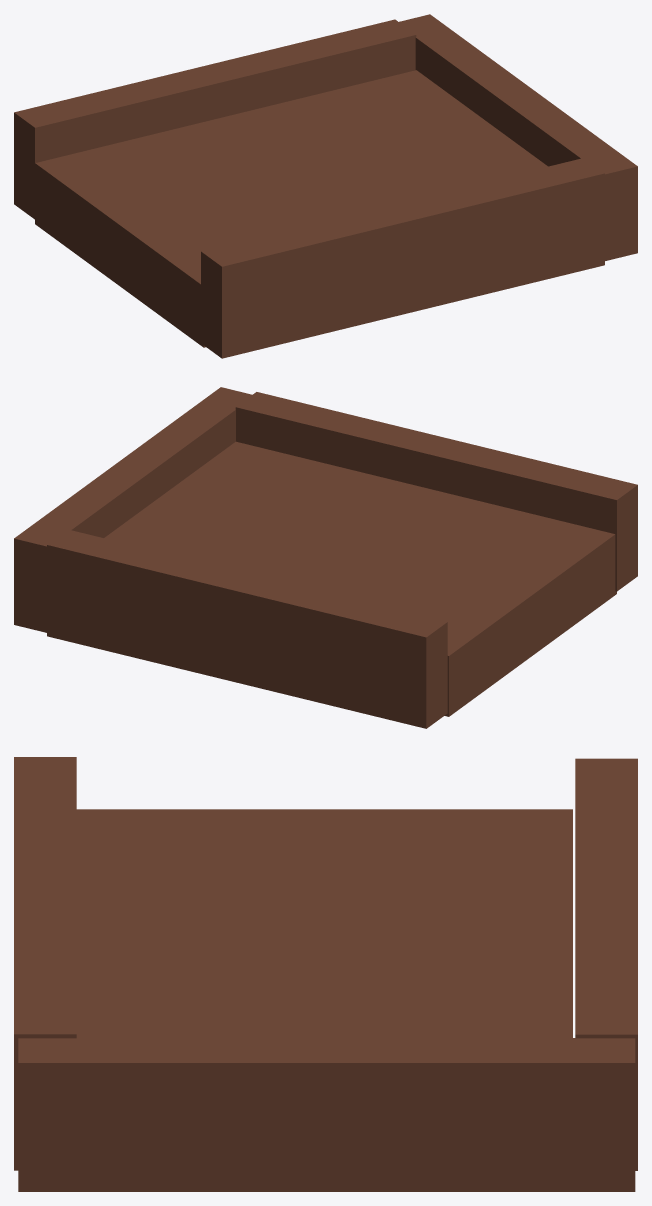
Rendered from Start.fbx.
3 renders of one model, top to bottom at view 1: azimuth 30°, elevation 25°; view 2: azimuth 150°, elevation 25°; view 3: azimuth 270°, elevation 25°, orthographic. The views are drawn at different scales.
Visible parts, largest first — view 1: Cube.012, Cube.014, Cube.013, Cube.015; view 2: Cube.012, Cube.013, Cube.014, Cube.015; view 3: Cube.012, Cube.015, Cube.014, Cube.013.
Part boxes in pixels (box(x1,y1,x2,y2)): Cube.012: box(35, 70, 547, 347); Cube.014: box(201, 158, 604, 358); Cube.013: box(14, 19, 416, 219); Cube.015: box(399, 14, 637, 260); Cube.012: box(104, 441, 616, 716); Cube.013: box(47, 529, 447, 728); Cube.014: box(235, 392, 637, 591); Cube.015: box(14, 387, 252, 632); Cube.012: box(76, 809, 572, 1037); Cube.015: box(18, 1038, 635, 1191); Cube.014: box(14, 757, 76, 1170); Cube.013: box(575, 758, 637, 1170).
Bounding box in the file's own units: 11.39 × 2.5 × 9.94.
